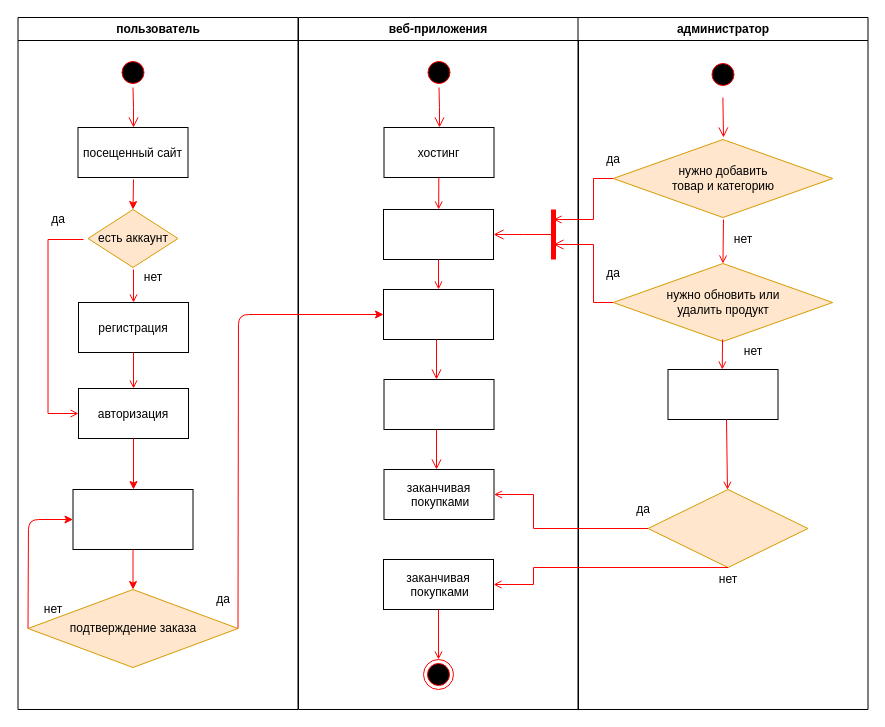
Image size: 885x727. Some labels were removed from this diagram. The centre of each missing label's shape, as x and y in pixels:
"выбор продуктов" belongs at (x=132, y=519).
"конечный выбор продуктов" belongs at (x=722, y=394).
"нужно анализировать продукты" belongs at (x=727, y=528).
"покупать продукты" belongs at (x=438, y=314).
"проверка информации" belongs at (x=438, y=404).
"управление контентом" belongs at (x=438, y=234).
